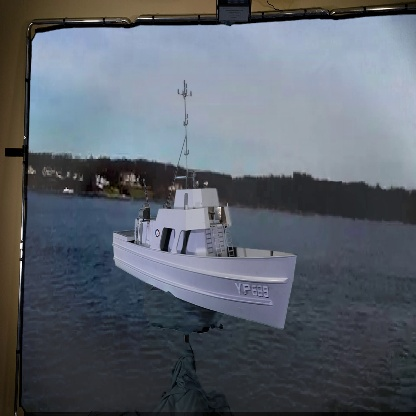YP689: (110, 78, 298, 331)
